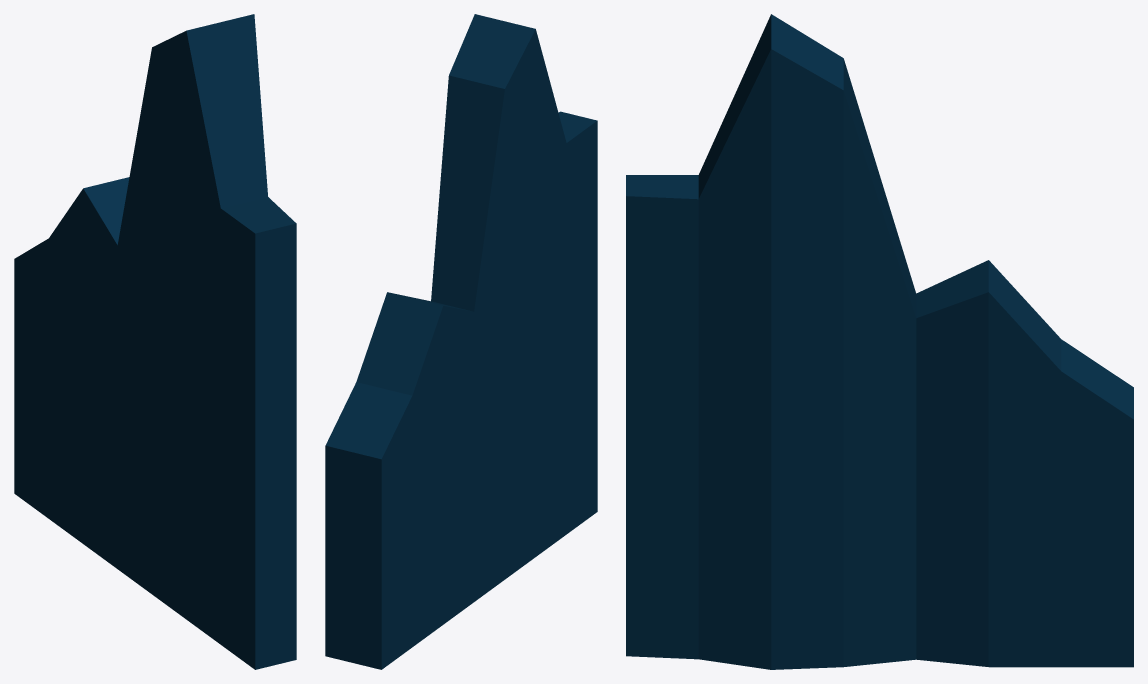
File: IsometricTile_Dark_Wall_2.fbx
3 views of the same model, side by side, from view 1: azimuth 30°, elevation 25°; view 2: azimuth 150°, elevation 25°; view 3: azimuth 270°, elevation 25° (orthographic). The views are drawn at different scales.
Visible parts, largest first — view 1: Cube.001; view 2: Cube.001; view 3: Cube.001.
Part boxes in pixels (x1,y1,x2,y2): Cube.001: [14, 14, 296, 669]; Cube.001: [325, 14, 597, 669]; Cube.001: [626, 14, 1133, 669].
Size of the model in its own units: 1 by 0.1631 by 1.35.
